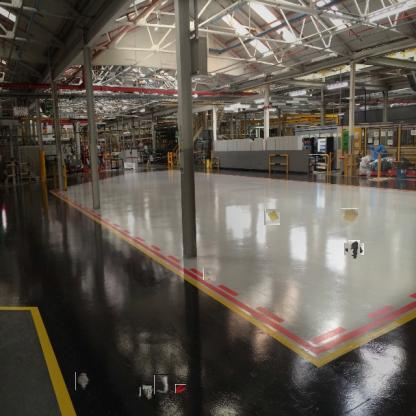dirty: (154, 374, 169, 394), (264, 209, 280, 226), (75, 372, 90, 390), (346, 241, 362, 257), (139, 385, 153, 399), (204, 268, 216, 281)
liquid: (341, 208, 358, 226), (175, 384, 186, 393)
